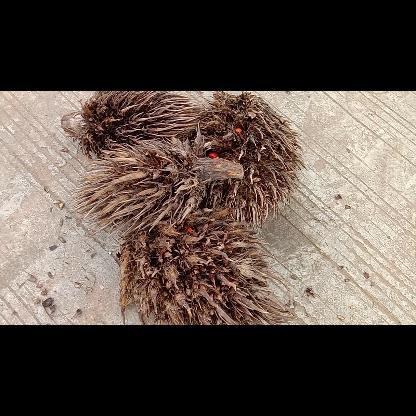Janjang kosong: (66, 138, 244, 232), (118, 232, 296, 324), (200, 91, 310, 229), (62, 91, 200, 161)
